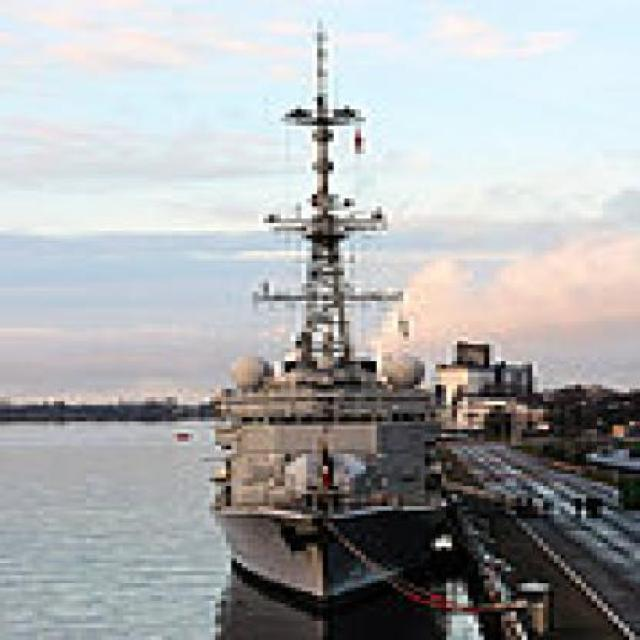warship2: (221, 1, 464, 606)
